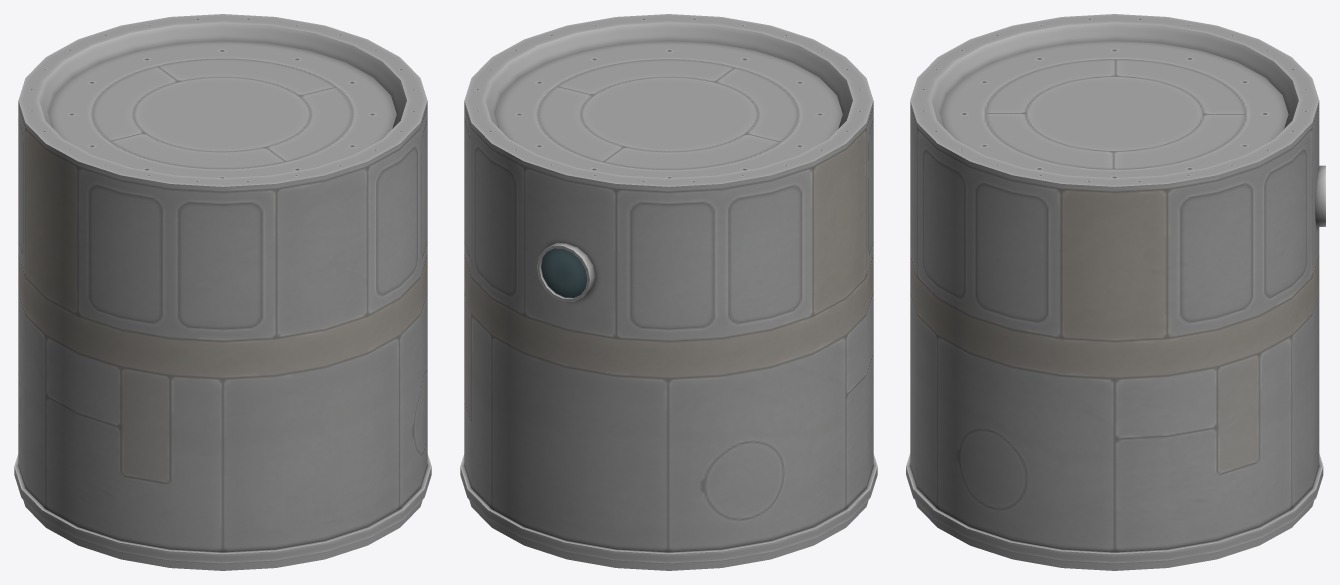
Rendered from Alniyat_Habitation_2_1.obj.
The picture shows the model from 3 angles, left to right: view 1: azimuth 30°, elevation 25°; view 2: azimuth 150°, elevation 25°; view 3: azimuth 270°, elevation 25°; orthographic projection.
Visible parts, largest first — view 1: Alniyat_Habitation_2_1; view 2: Alniyat_Habitation_2_1, Alniyat_Habitation_2_1_Window; view 3: Alniyat_Habitation_2_1.
Boxes of the visible parts, x1,y1,x2,y2 form: Alniyat_Habitation_2_1: [14, 14, 431, 570]; Alniyat_Habitation_2_1: [460, 14, 877, 570]; Alniyat_Habitation_2_1_Window: [541, 248, 587, 297]; Alniyat_Habitation_2_1: [906, 14, 1325, 570].
Bounding box in the file's own units: 1.27 × 1.29 × 1.28.
